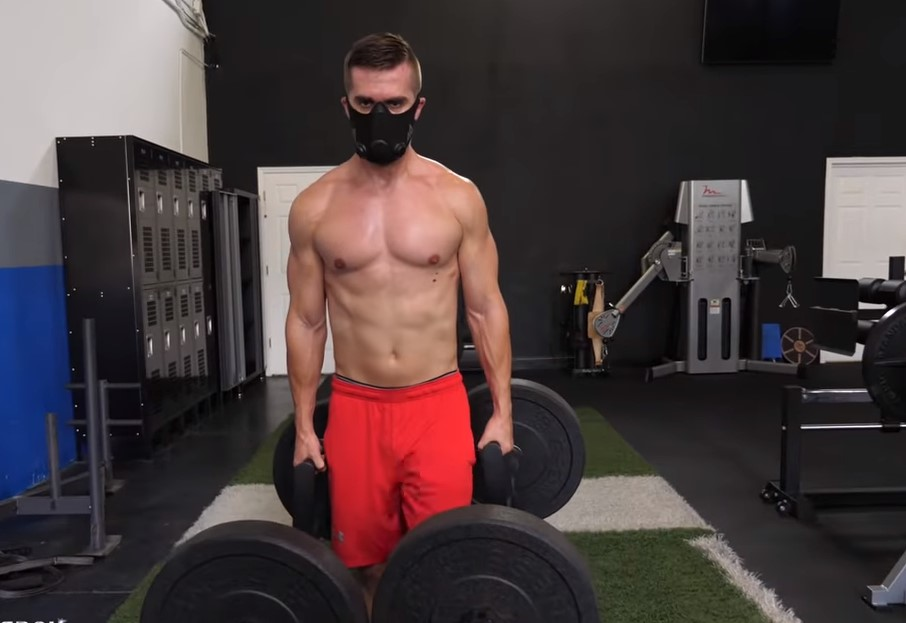face_with_mask: (342, 39, 428, 165)
